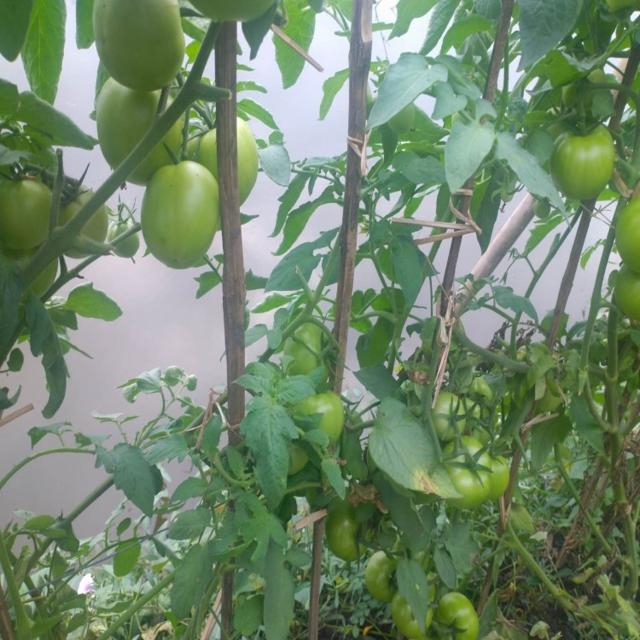tomato: (95, 1, 189, 92), (147, 163, 218, 264), (554, 125, 614, 199), (1, 168, 52, 255), (99, 78, 156, 154), (450, 436, 491, 507), (287, 321, 331, 379), (231, 121, 261, 202), (612, 198, 640, 277), (440, 591, 480, 640), (193, 1, 279, 20), (436, 393, 465, 442), (364, 554, 395, 599), (392, 598, 425, 640), (333, 519, 366, 560), (320, 387, 343, 444), (618, 266, 640, 321), (187, 127, 218, 162), (81, 213, 113, 246), (486, 455, 510, 499), (61, 175, 82, 219), (463, 397, 481, 430), (473, 380, 489, 403)
